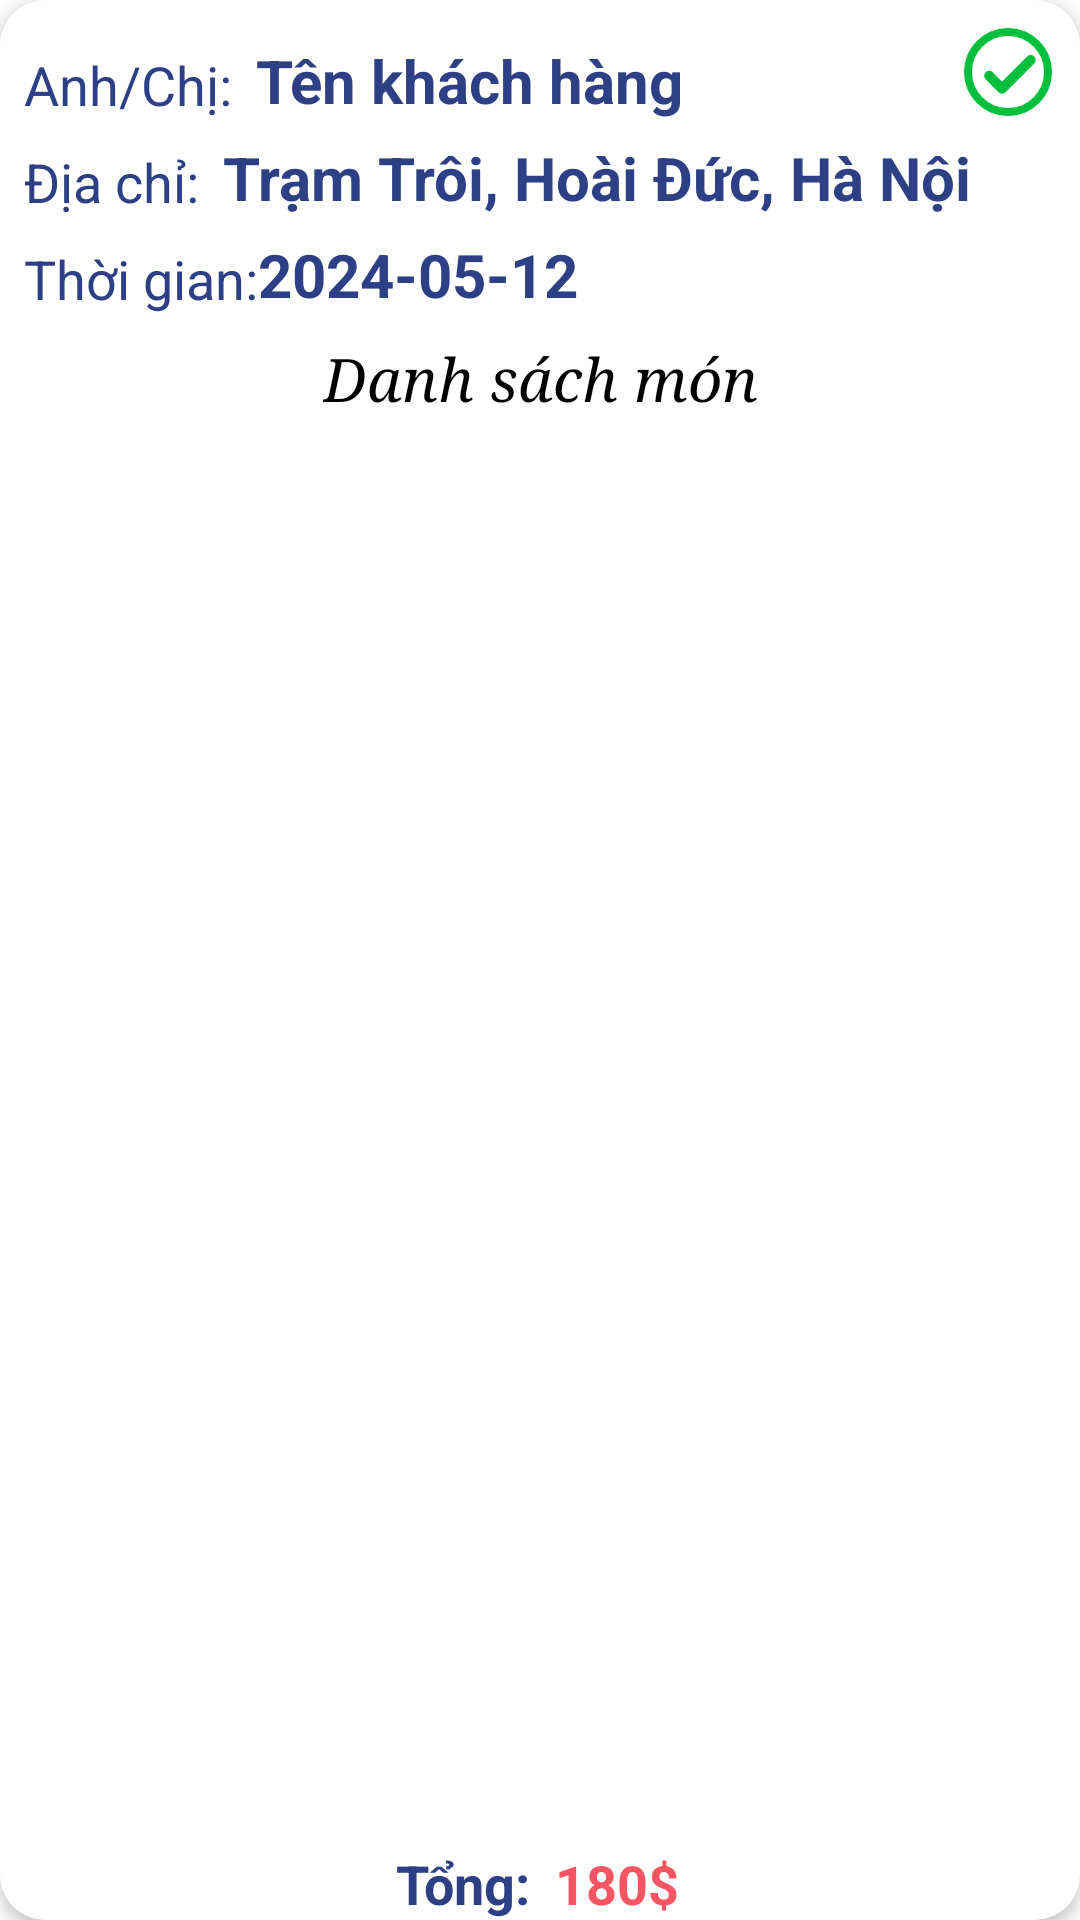

Locate icon controls on the screen. Image size 1080x1920, boxes as Rect(x1, y1, x2, y2).
tick: Rect(964, 28, 1052, 116)
